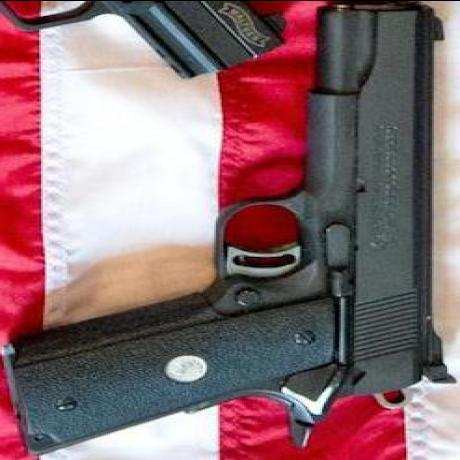weapon: (4, 3, 448, 454)
